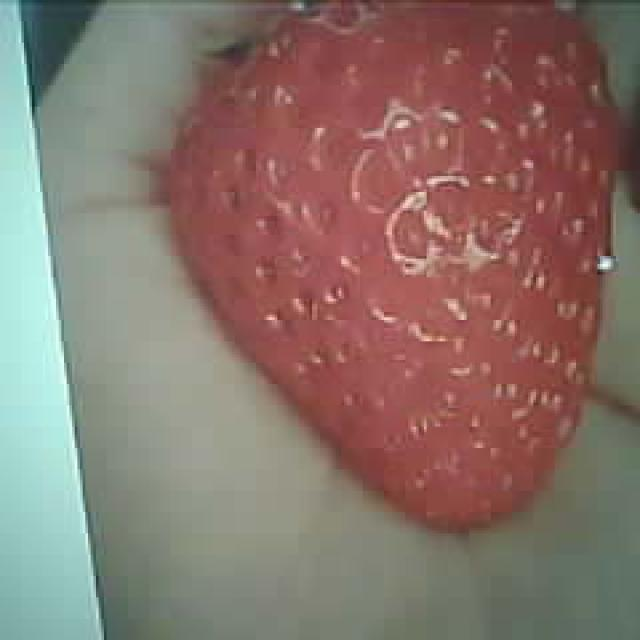strawberry: (170, 0, 610, 533)
